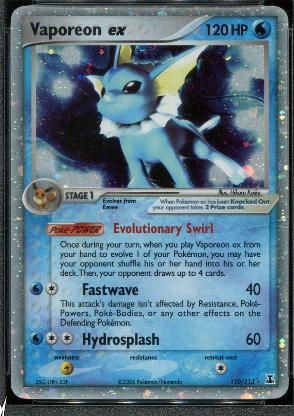Card: (7, 3, 291, 405)
